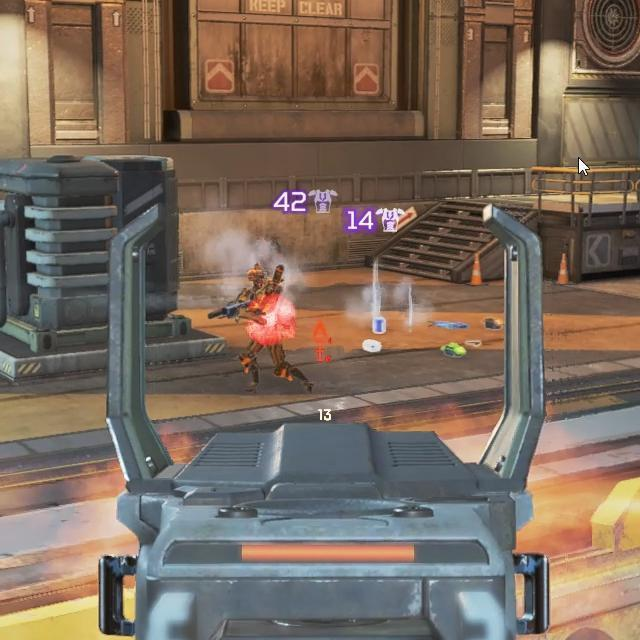avatar: (236, 261, 288, 392)
object: (241, 290, 301, 348)
